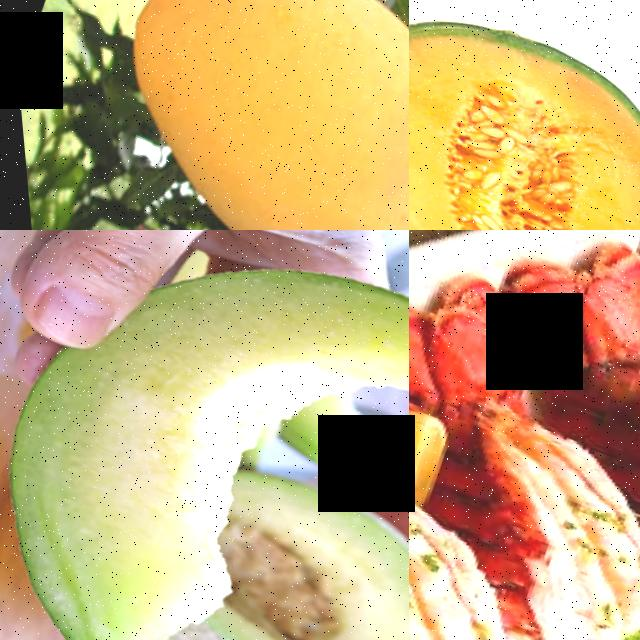lemon: (409, 393, 464, 514)
lobster tails: (409, 247, 570, 468), (484, 230, 640, 418)
mango: (44, 0, 409, 230)
melon: (0, 327, 307, 640), (409, 0, 640, 230), (150, 462, 409, 640)
